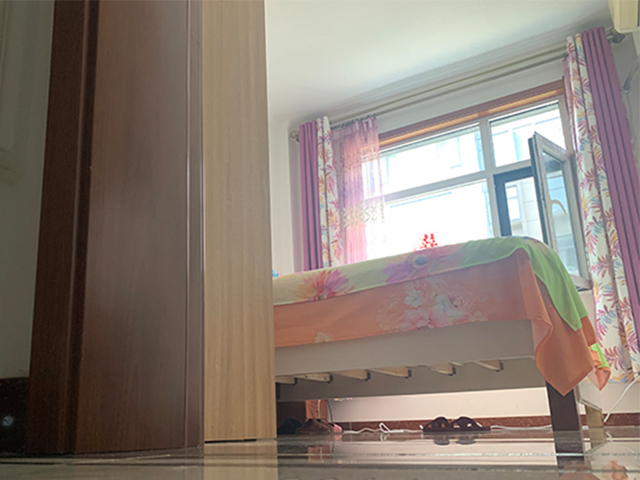bed: (271, 235, 613, 457)
curtain: (564, 30, 638, 382), (295, 119, 342, 269)
slippers: (278, 417, 343, 437), (450, 415, 491, 433), (426, 415, 454, 433)
wire: (346, 419, 423, 435), (492, 421, 552, 434)
